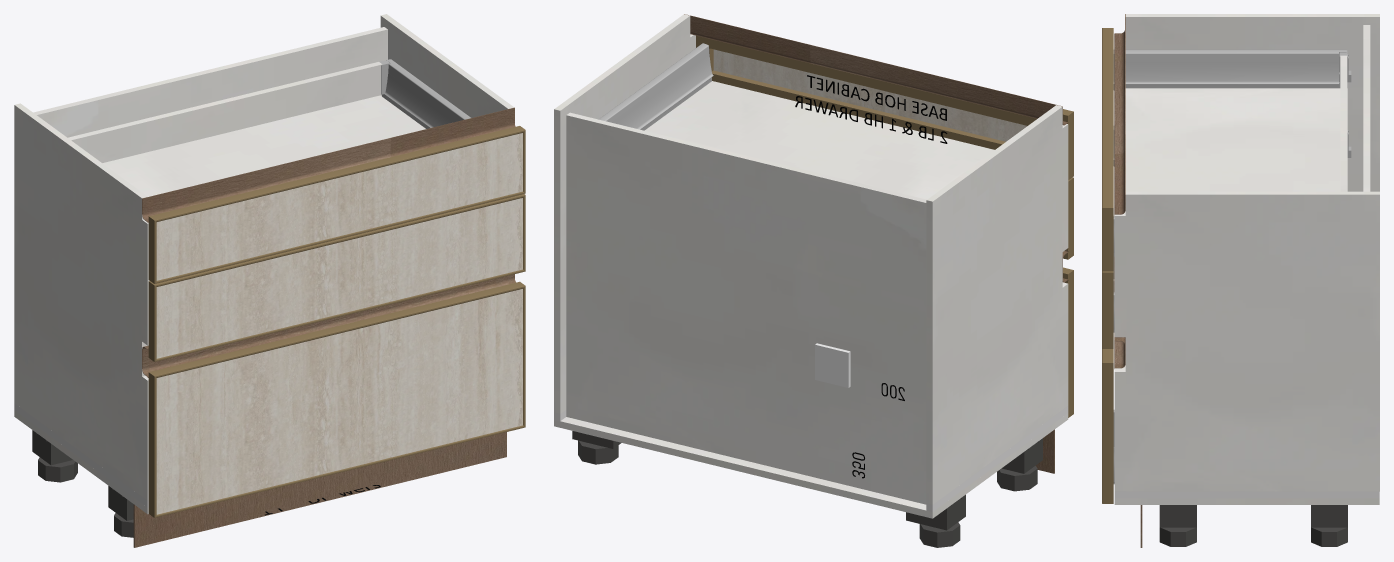
The model's file is BC-HO-CJ-ST-2LB-1HB-XXX-900-720-560-15.glb.
3 renders of one model, left to right at view 1: azimuth 30°, elevation 25°; view 2: azimuth 150°, elevation 25°; view 3: azimuth 270°, elevation 25°, orthographic. The views are drawn at different scales.
Visible parts, largest first — view 1: Object_node, TP_node_6, Object_node_1, Object_node_3, TP_node_3, TP, TP_node_4, Object_node_93, ExtrSplGeo, TP_node_7, ExtrSplGeo_node, Extrusion (+12 smaller); view 2: TP, TP_node_6, TP_node_3, TP_node_7, ExtrSplGeo, Object_node_3, TP_node_5, Shell_0_0_node_0, Extrusion_node_6, Extrusion_node_8, 2D text, casing (+7 smaller); view 3: TP_node_7, TP_node_3, TP_node_6, Shell_1_0_node_0, ExtrSplGeo, Extrusion_node_6, Object_node_75, TP_node_5, Extrusion_node, TP, TP_node_4, Extrusion_node_3 (+6 smaller).
Part boxes in pixels (x1=…): Object_node: x1=156, y1=289, x2=522, y2=514; TP_node_6: x1=14, y1=103, x2=149, y2=500; Object_node_1: x1=156, y1=198, x2=522, y2=358; Object_node_3: x1=156, y1=133, x2=522, y2=280; TP_node_3: x1=102, y1=95, x2=425, y2=196; TP: x1=33, y1=27, x2=387, y2=162; TP_node_4: x1=68, y1=62, x2=382, y2=162; Object_node_93: x1=133, y1=432, x2=506, y2=547; ExtrSplGeo: x1=142, y1=107, x2=515, y2=222; TP_node_7: x1=380, y1=14, x2=514, y2=117; ExtrSplGeo_node: x1=142, y1=274, x2=515, y2=377; Extrusion: x1=149, y1=281, x2=525, y2=377; TP: x1=566, y1=112, x2=926, y2=504; TP_node_6: x1=926, y1=105, x2=1068, y2=504; TP_node_3: x1=644, y1=81, x2=994, y2=199; TP_node_7: x1=554, y1=14, x2=695, y2=413; ExtrSplGeo: x1=684, y1=14, x2=1068, y2=125; Object_node_3: x1=713, y1=49, x2=1027, y2=141; TP_node_5: x1=554, y1=413, x2=1068, y2=518; Shell_0_0_node_0: x1=598, y1=43, x2=713, y2=130; Extrusion_node_6: x1=701, y1=37, x2=1073, y2=125; Extrusion_node_8: x1=712, y1=70, x2=1005, y2=149; 2D text: x1=795, y1=75, x2=947, y2=143; casing: x1=815, y1=343, x2=850, y2=387; TP_node_7: x1=1114, y1=191, x2=1379, y2=491; TP_node_3: x1=1125, y1=88, x2=1347, y2=212; TP_node_6: x1=1125, y1=14, x2=1379, y2=191; Shell_1_0_node_0: x1=1113, y1=49, x2=1347, y2=90; ExtrSplGeo: x1=1114, y1=14, x2=1125, y2=214; Extrusion_node_6: x1=1102, y1=28, x2=1113, y2=207; Object_node_75: x1=1114, y1=491, x2=1379, y2=498; TP_node_5: x1=1114, y1=368, x2=1379, y2=504; Extrusion_node: x1=1102, y1=363, x2=1113, y2=503; TP: x1=1363, y1=25, x2=1370, y2=191; TP_node_4: x1=1340, y1=55, x2=1347, y2=191; Extrusion_node_3: x1=1102, y1=272, x2=1113, y2=348.
Size of what is drawn, in the model's own units: 0.9 by 0.82 by 0.5842.
11 materials, 3 textured.
